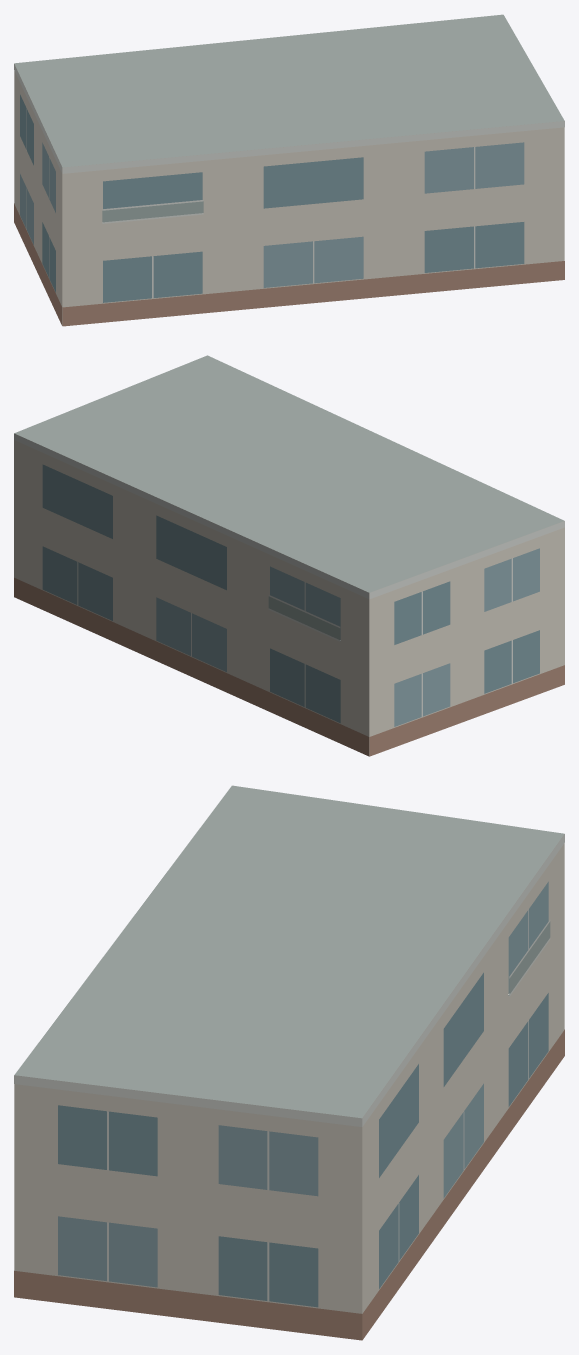
The model's file is survey-upis-32873988.glb.
3 views of the same model, one above another, from view 1: azimuth 30°, elevation 25°; view 2: azimuth 150°, elevation 25°; view 3: azimuth 270°, elevation 25° (orthographic). The views are drawn at different scales.
Parts seen in each view (by area): view 1: survey-upis-32873988.tmp; view 2: survey-upis-32873988.tmp; view 3: survey-upis-32873988.tmp.
Boxes of the visible parts, bbox=[...] form: survey-upis-32873988.tmp: bbox=[14, 14, 564, 326]; survey-upis-32873988.tmp: bbox=[14, 355, 564, 756]; survey-upis-32873988.tmp: bbox=[14, 785, 564, 1340].
Bounding box in the file's own units: 19.61 × 6.1 × 13.71.
